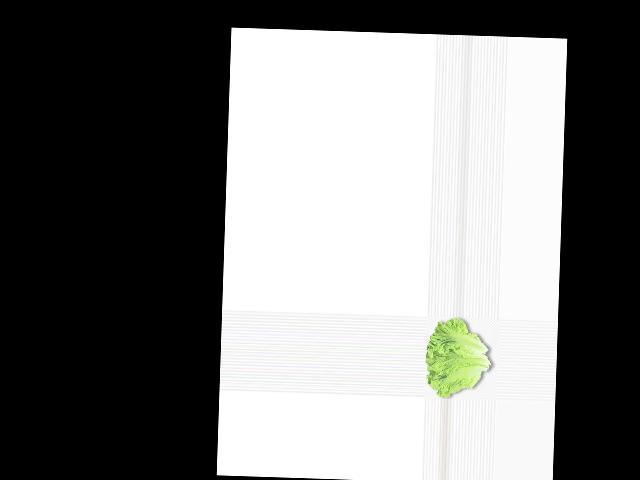lettuce: (425, 315, 494, 397)
